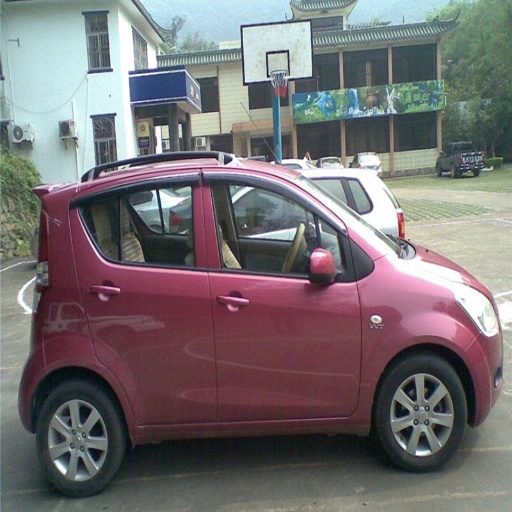back_right_door: (73, 167, 217, 429)
front_right_door: (204, 167, 361, 420)
